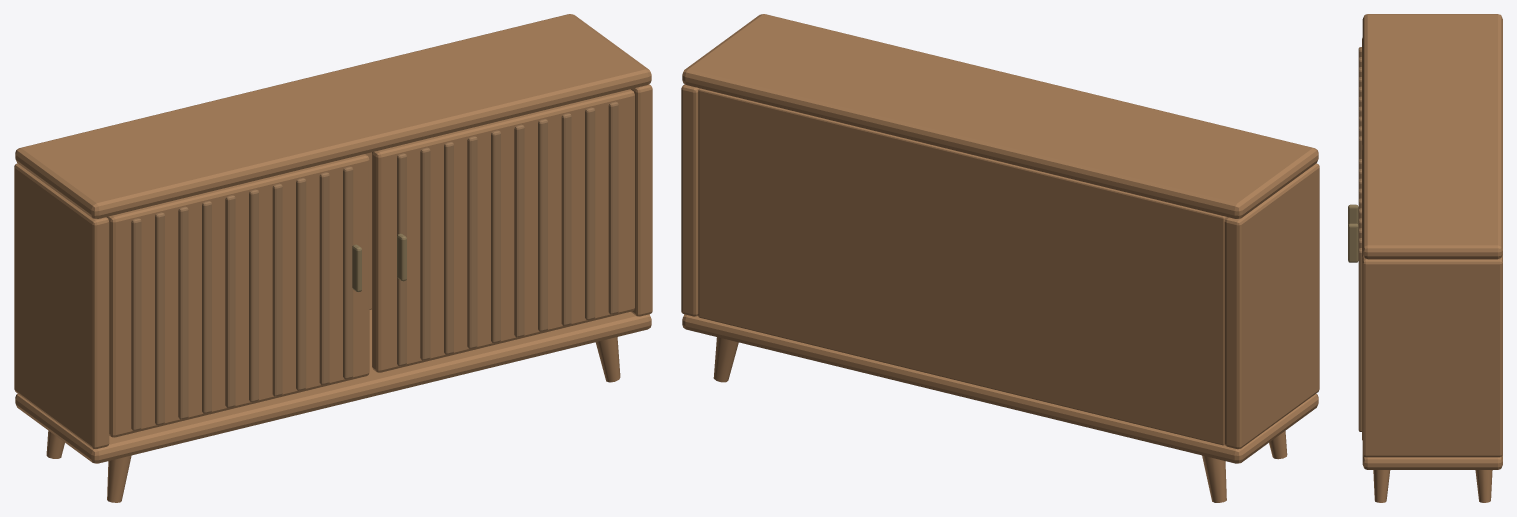
The model's file is storage-reed.glb.
3 views of the same model, side by side, from view 1: azimuth 30°, elevation 25°; view 2: azimuth 150°, elevation 25°; view 3: azimuth 270°, elevation 25° (orthographic). The views are drawn at different scales.
Parts seen in each view (by area): view 1: storage-reed; view 2: storage-reed; view 3: storage-reed.
Boxes of the visible parts, left/top/right/bottom form: storage-reed: left=14, top=14, right=652, bottom=502; storage-reed: left=681, top=14, right=1319, bottom=502; storage-reed: left=1348, top=14, right=1502, bottom=502.
Bounding box in the file's own units: 1.55 × 0.82 × 0.43.
